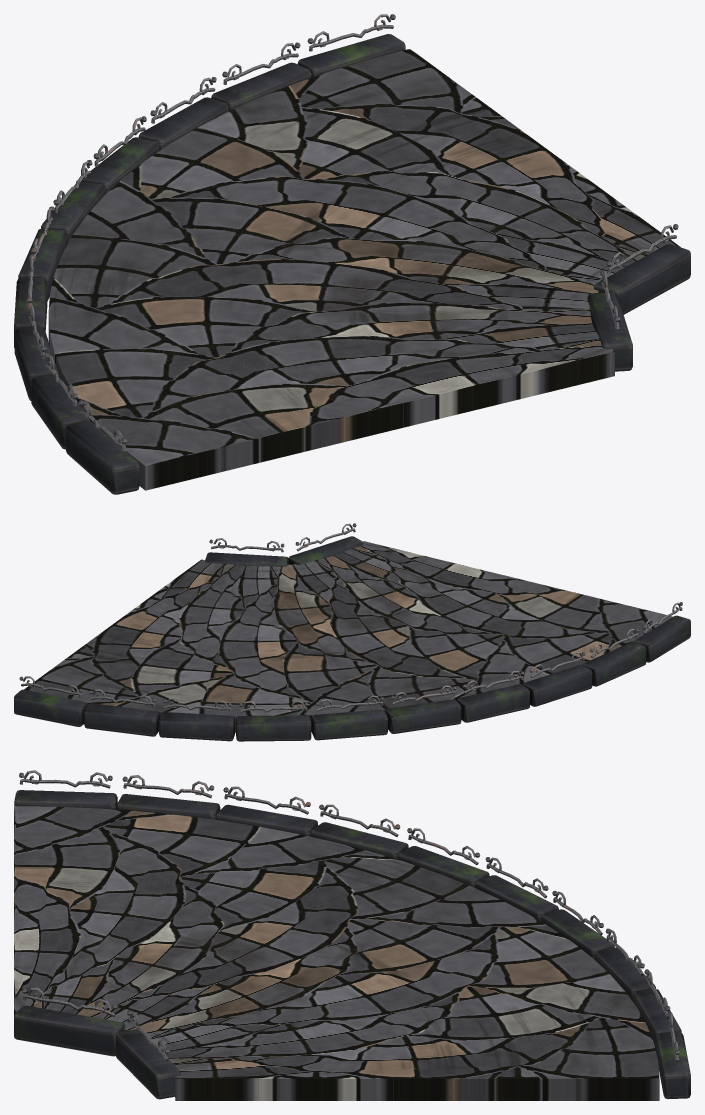
File: PathCobbleCurve.fbx
The picture shows the model from 3 angles, top to bottom: view 1: azimuth 30°, elevation 25°; view 2: azimuth 150°, elevation 25°; view 3: azimuth 270°, elevation 25°; orthographic projection. The views are drawn at different scales.
Parts seen in each view (by area): view 1: PathCobbleCurve_Path, PathCobbleCurve_Main; view 2: PathCobbleCurve_Path, PathCobbleCurve_Main; view 3: PathCobbleCurve_Path, PathCobbleCurve_Main.
Part boxes in pixels (x1,y1,x2,y2): PathCobbleCurve_Path: (48,49,680,490); PathCobbleCurve_Main: (14,14,690,494); PathCobbleCurve_Path: (24,541,672,732); PathCobbleCurve_Main: (14,523,690,741); PathCobbleCurve_Path: (14,806,659,1100); PathCobbleCurve_Main: (14,770,690,1099).
Bounding box in the file's own units: 839 × 69.72 × 839.
